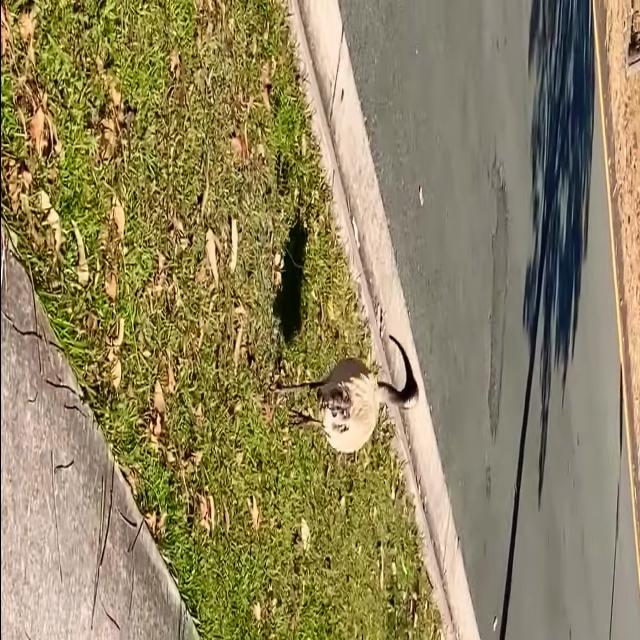Birds-Ibis: (266, 330, 422, 460)
